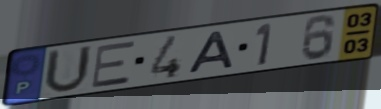1: (254, 21, 274, 68)
4: (148, 34, 183, 80)
6: (300, 13, 337, 63)
A: (186, 29, 237, 76)
E: (90, 39, 137, 90)
U: (41, 44, 95, 95)
